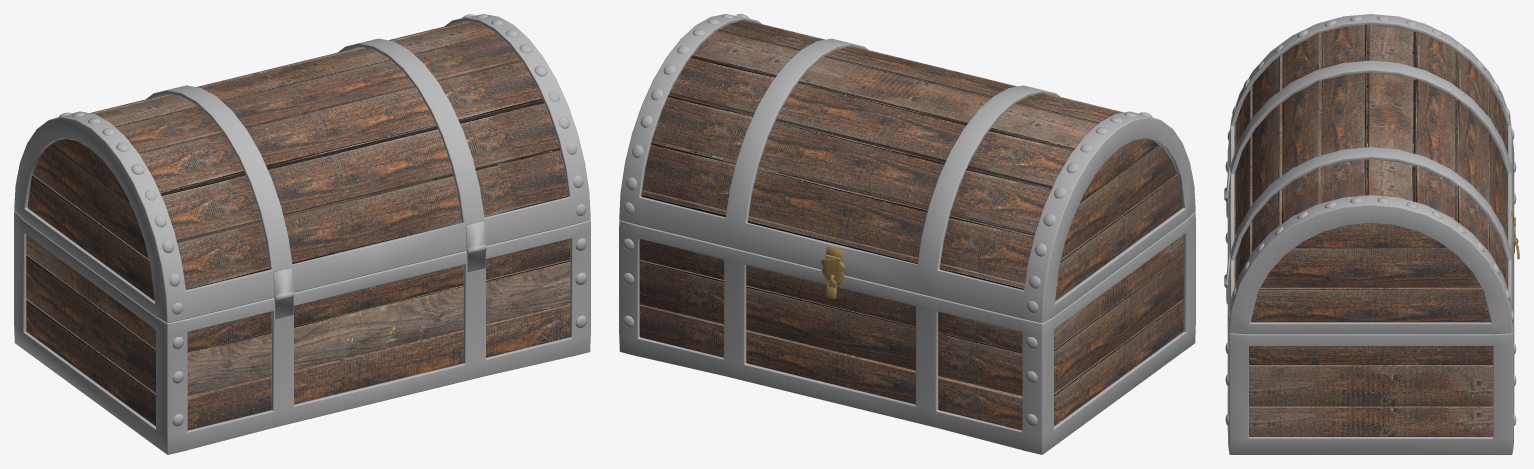
The model's file is coffre.glb.
3 renders of one model, left to right at view 1: azimuth 30°, elevation 25°; view 2: azimuth 150°, elevation 25°; view 3: azimuth 270°, elevation 25°, orthographic. The views are drawn at different scales.
Parts seen in each view (by area): view 1: Chest; view 2: Chest; view 3: Chest.
Boxes of the visible parts, bbox=[...] form: Chest: bbox=[14, 14, 590, 454]; Chest: bbox=[619, 14, 1195, 454]; Chest: bbox=[1224, 14, 1519, 454].
Size of the model in its own units: 3.27 by 2 by 2.12.
3 materials, 1 textured.
